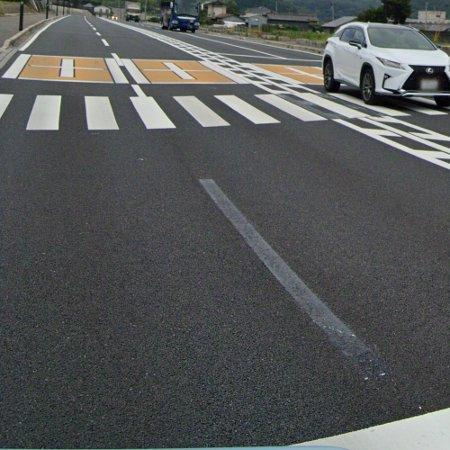crosswalks: (0, 91, 449, 132)
